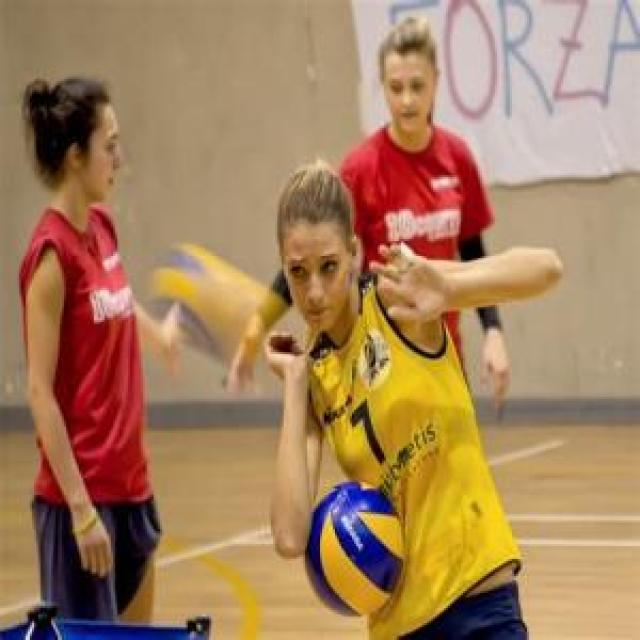volleyball: (304, 481, 402, 618)
